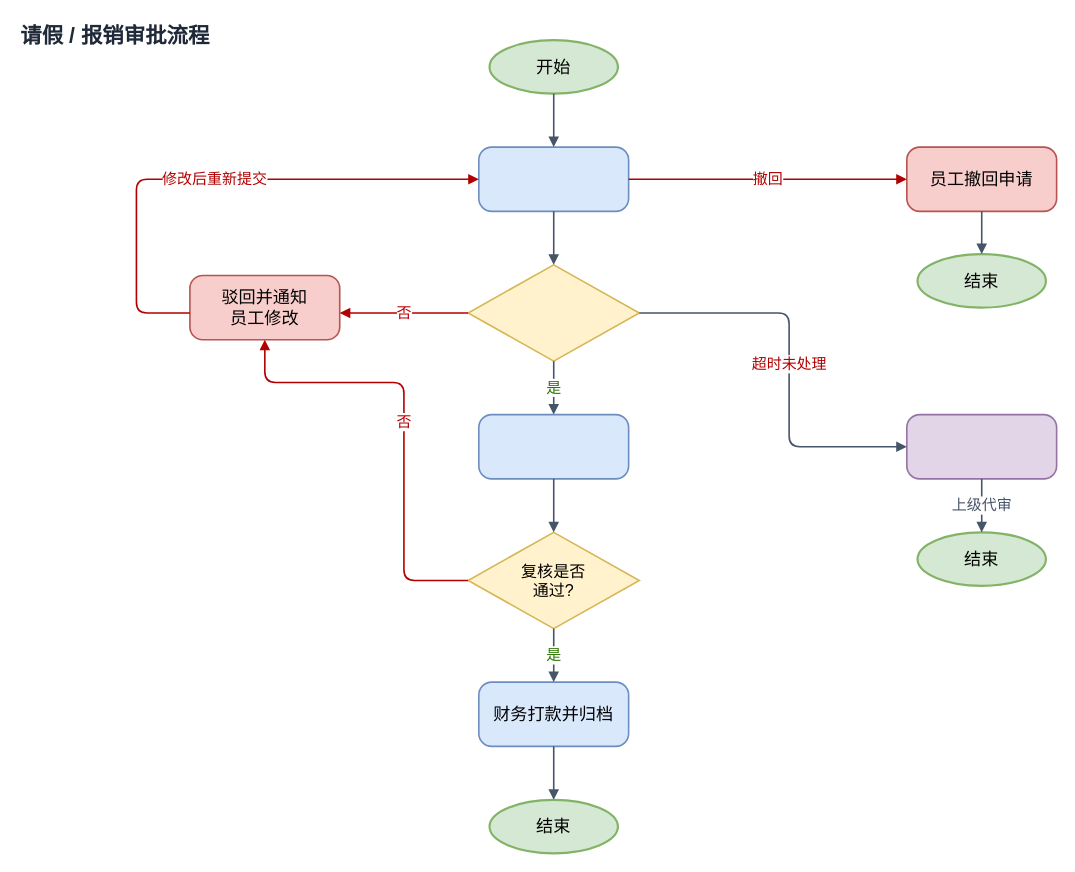
Image size: 1075x872. Some labels were removed from this diagram. The centre of each missing label's shape, as x and y in pixels:
"HR / 财务复核 核对材料与额度" goes at (553,446).
"主管审批 是否通过?" goes at (553,312).
"员工提交申请 请假单 / 报销单" goes at (553,179).
"超时自动升级 转交上级审批" goes at (981,446).
